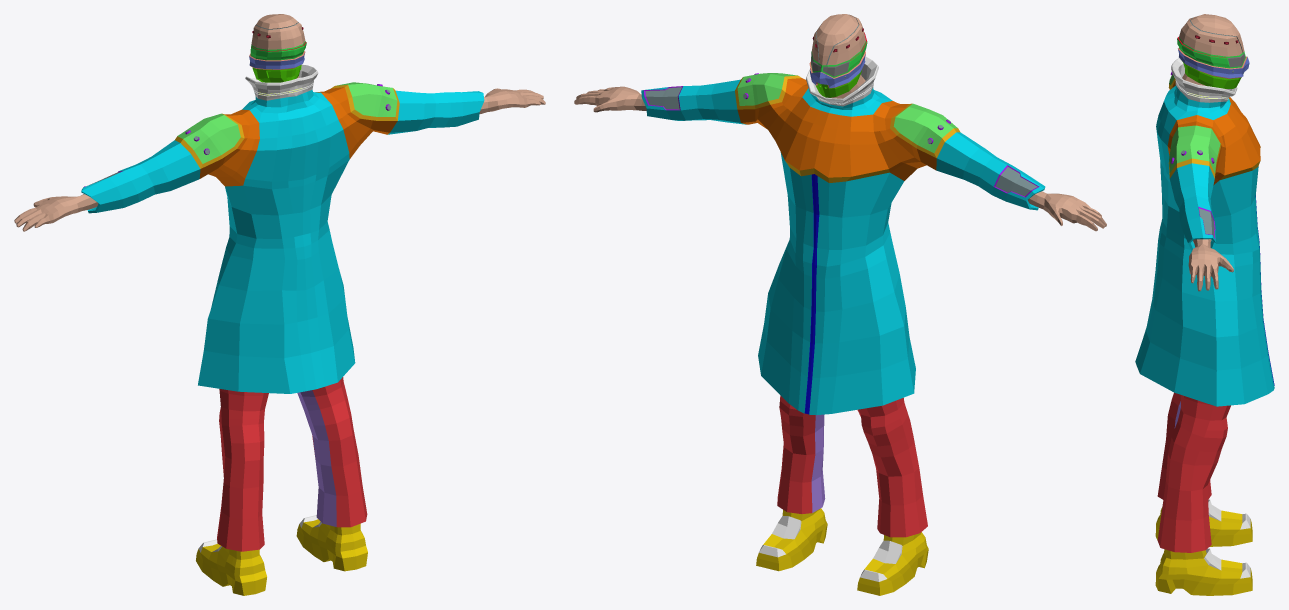
The model's file is Rocket Guy.fbx.
3 renders of one model, left to right at view 1: azimuth 30°, elevation 25°; view 2: azimuth 150°, elevation 25°; view 3: azimuth 270°, elevation 25°, orthographic.
Visible parts, largest first — view 1: Rocket Guy Asset; view 2: Rocket Guy Asset; view 3: Rocket Guy Asset.
Boxes of the visible parts, x1,y1,x2,y2 form: Rocket Guy Asset: (14,14,545,595); Rocket Guy Asset: (574,14,1106,595); Rocket Guy Asset: (1135,14,1274,595).
Bounding box in the file's own units: 248 × 247 × 57.09.
